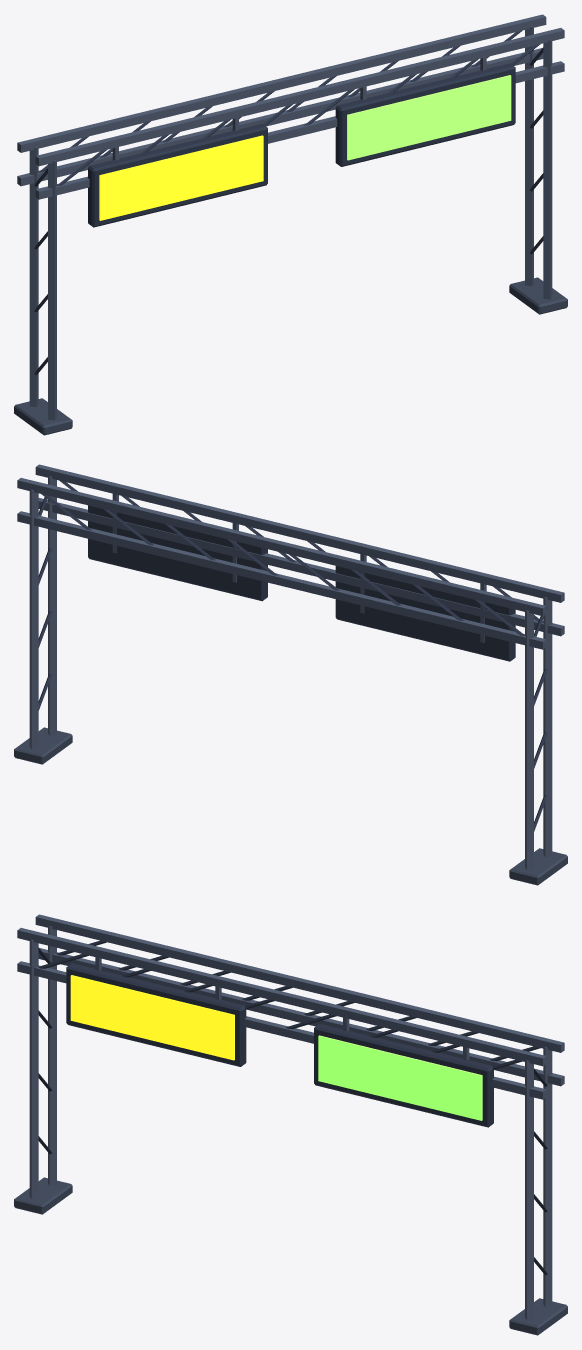
File: city_highway_sign_gantry.glb
3 views of the same model, one above another, from view 1: azimuth 30°, elevation 25°; view 2: azimuth 150°, elevation 25°; view 3: azimuth 330°, elevation 25° (orthographic).
Visible parts, largest first — view 1: blank_panel, blank_panel.001, truss_chord.002, truss_chord.003, sign_housing, sign_housing.001, truss_chord, upright.003, upright, upright.001, upright.002, truss_chord.001 (+2 smaller); view 2: truss_chord.002, truss_chord.003, truss_chord, sign_housing, sign_housing.001, truss_chord.001, upright.002, upright.001, upright, upright.003, footing.001, footing; view 3: blank_panel, blank_panel.001, truss_chord.002, truss_chord.003, sign_housing, sign_housing.001, truss_chord, upright.001, upright.002, upright.003, upright, truss_chord.001 (+2 smaller).
Boxes of the visible parts, box(x1,y1,x2,y2) form: blank_panel: box(99, 135, 263, 220); blank_panel.001: box(347, 75, 511, 160); truss_chord.002: box(17, 14, 546, 152); truss_chord.003: box(35, 28, 564, 166); sign_housing: box(88, 123, 267, 227); sign_housing.001: box(335, 63, 515, 166); truss_chord: box(17, 48, 543, 186); upright.003: box(543, 39, 552, 299); upright: box(29, 147, 38, 407); upright.001: box(48, 160, 56, 420); upright.002: box(525, 26, 533, 286); truss_chord.001: box(35, 61, 564, 199); truss_chord.002: box(17, 478, 546, 616); truss_chord.003: box(35, 464, 564, 602); truss_chord: box(17, 511, 546, 649); sign_housing: box(335, 566, 515, 661); sign_housing.001: box(88, 505, 267, 601); truss_chord.001: box(38, 498, 564, 636); upright.002: box(29, 489, 38, 749); upright.001: box(543, 597, 552, 857); upright: box(525, 610, 533, 870); upright.003: box(48, 476, 56, 736); footing.001: box(14, 727, 72, 764); footing: box(509, 848, 567, 885); blank_panel: box(70, 975, 234, 1060); blank_panel.001: box(318, 1035, 482, 1120); truss_chord.002: box(35, 914, 564, 1052); truss_chord.003: box(17, 928, 546, 1066); sign_housing: box(66, 963, 246, 1066); sign_housing.001: box(314, 1023, 493, 1127); truss_chord: box(38, 948, 564, 1086); upright.001: box(29, 939, 38, 1199); upright.002: box(543, 1047, 552, 1307); upright.003: box(525, 1060, 533, 1320); upright: box(48, 926, 56, 1186); truss_chord.001: box(17, 961, 546, 1099).
Size of the model in its own units: 14 by 7 by 1.4.
